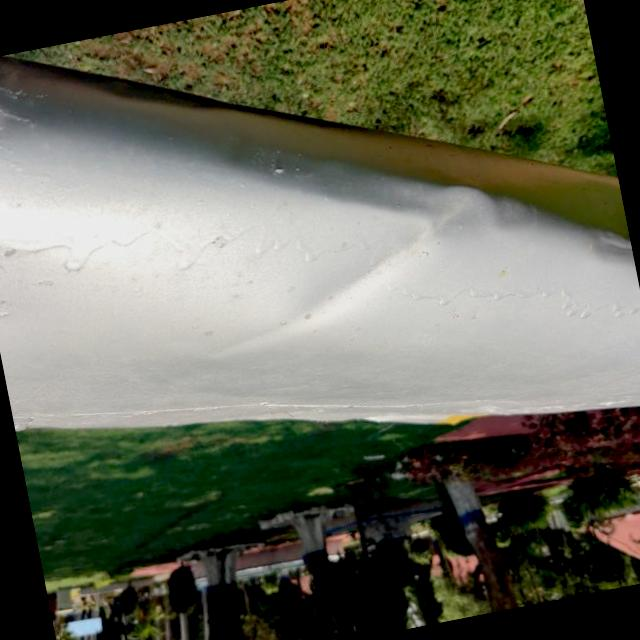dent: (228, 128, 568, 366), (570, 208, 636, 278)
